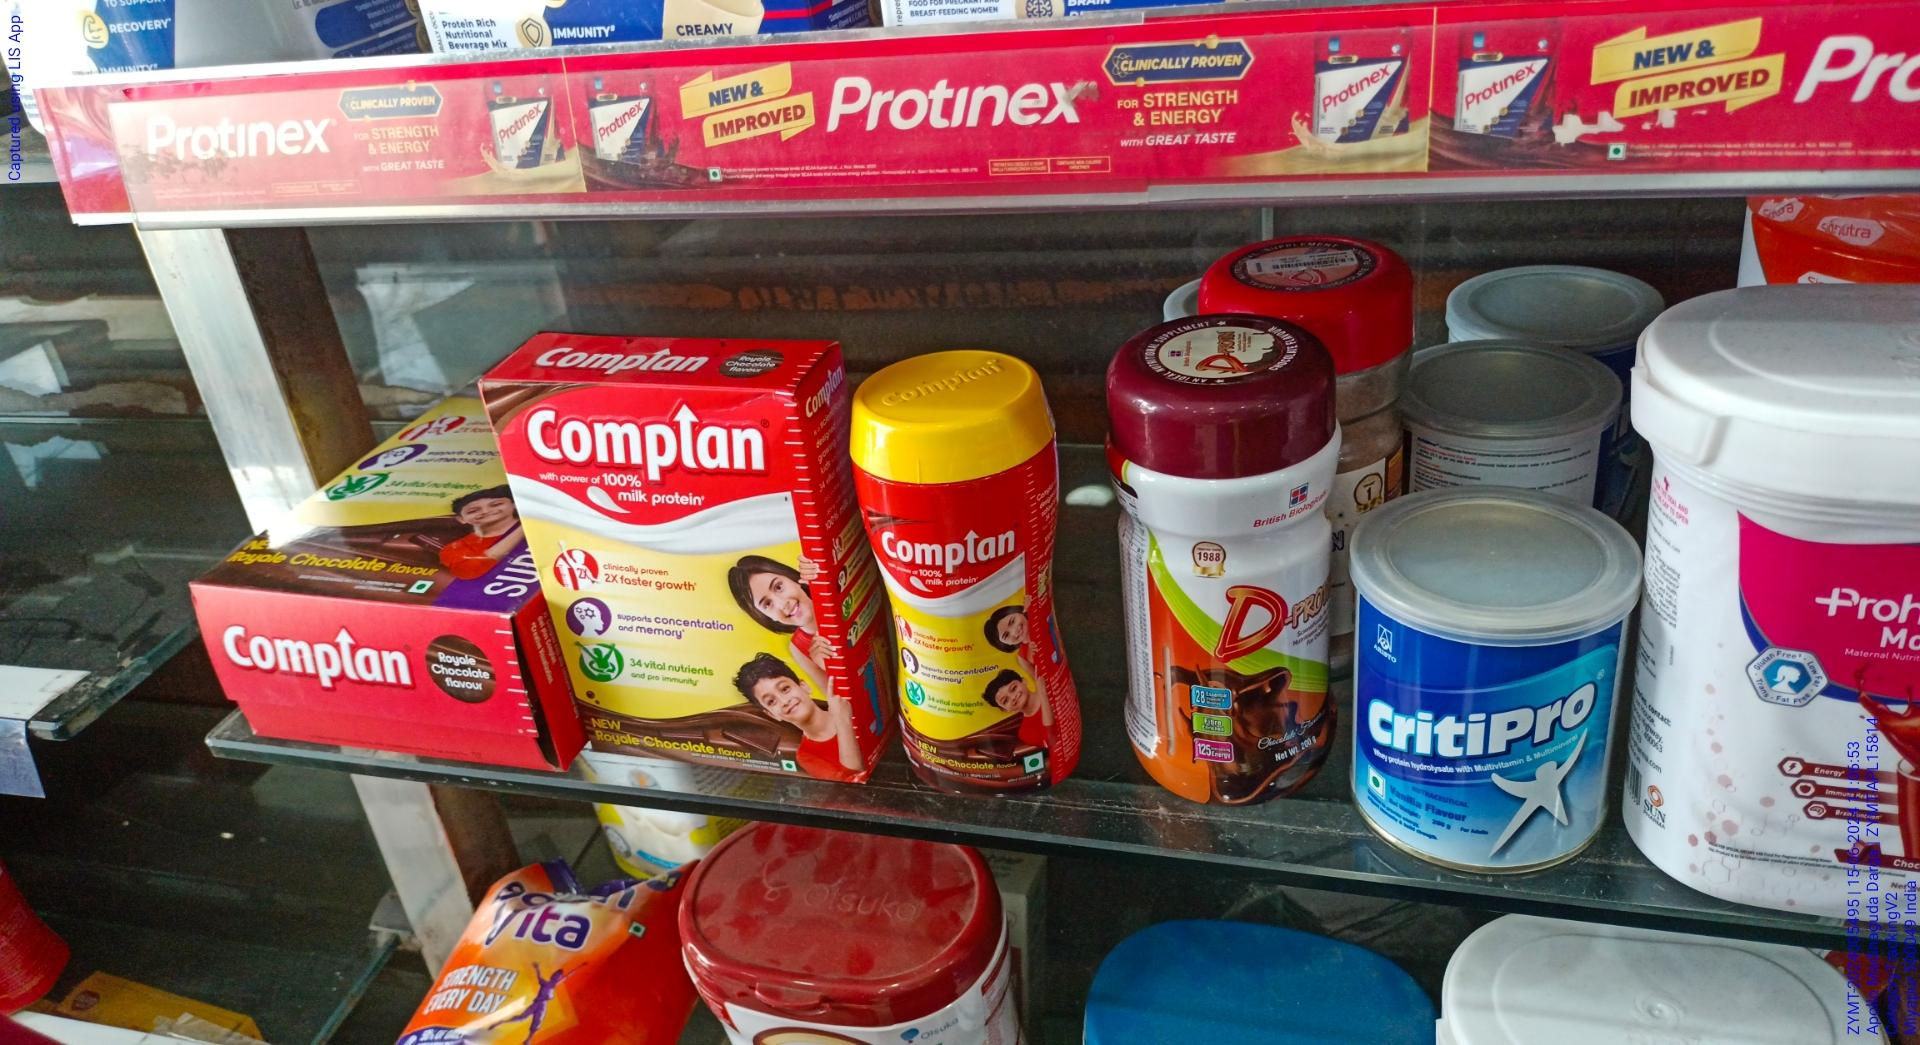COMPLAN_CHOCOLATE_500_GMS_JAR: (867, 386, 1076, 794)
COMPLAN_CHOCOLATE_500_GMS_PACK: (566, 375, 848, 759)
